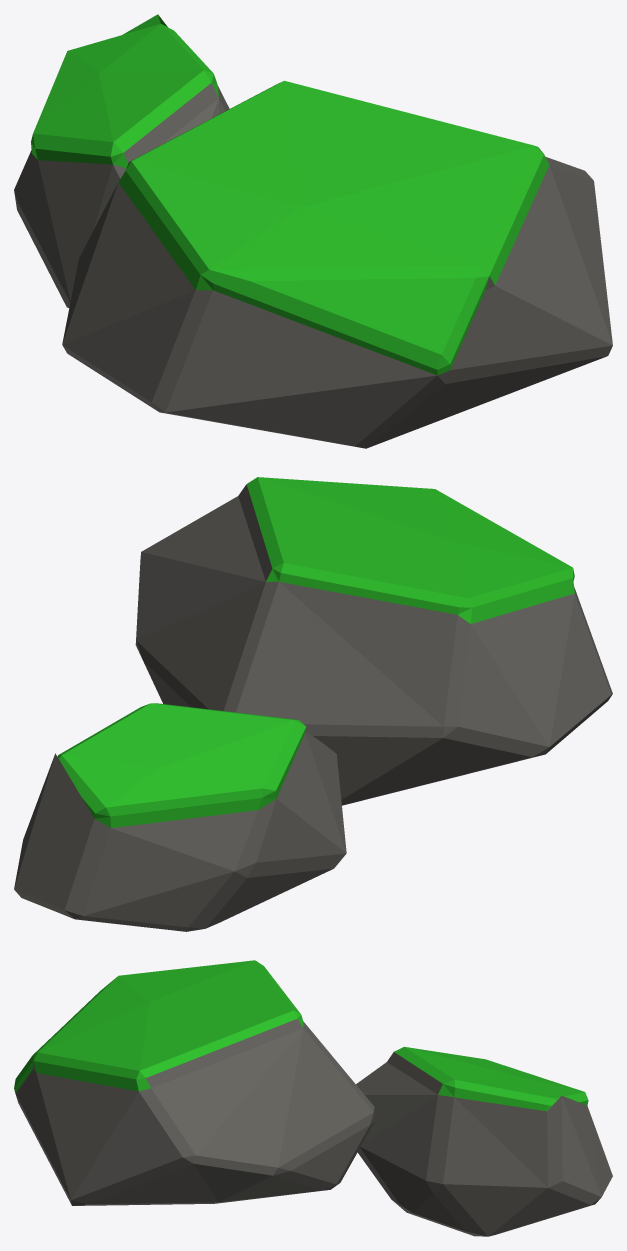
Rendered from Rock type 7.fbx.
3 views of the same model, one above another, from view 1: azimuth 30°, elevation 25°; view 2: azimuth 150°, elevation 25°; view 3: azimuth 270°, elevation 25° (orthographic). The views are drawn at different scales.
Parts seen in each view (by area): view 1: Icosphere.002, Icosphere.001; view 2: Icosphere.002, Icosphere.001; view 3: Icosphere.002, Icosphere.001.
Part boxes in pixels (x1,y1,x2,y2): Icosphere.002: (62,80,612,448); Icosphere.001: (14,14,229,307); Icosphere.002: (135,477,612,805); Icosphere.001: (14,703,346,931); Icosphere.002: (14,960,374,1205); Icosphere.001: (356,1046,612,1236).
Bounding box in the file's own units: 132 × 74.23 × 198.
